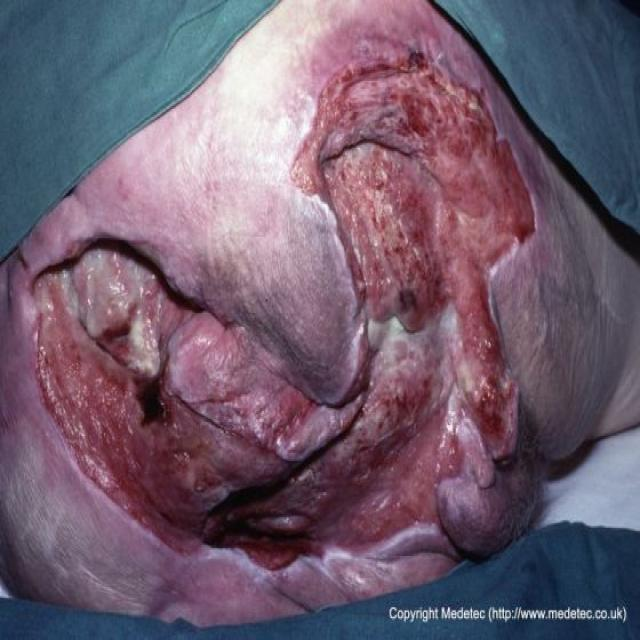stage-4: (28, 51, 532, 558)
